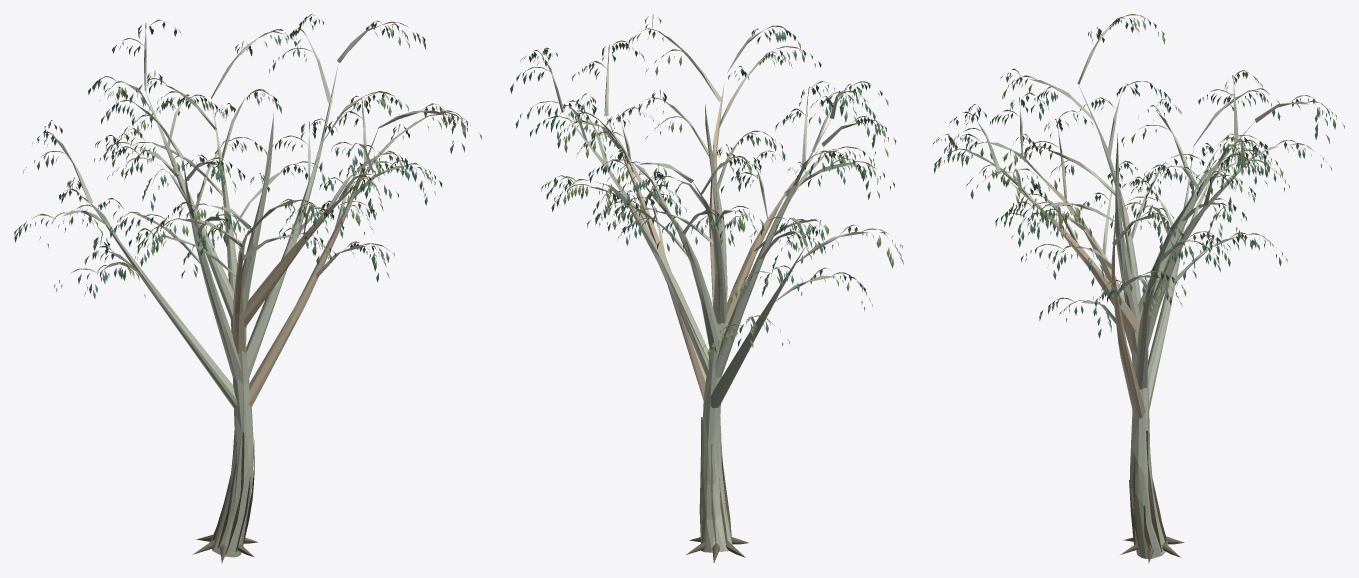
Rendered from eucalyptus-lod8000.glb.
3 renders of one model, left to right at view 1: azimuth 30°, elevation 25°; view 2: azimuth 150°, elevation 25°; view 3: azimuth 270°, elevation 25°, orthographic. The views are drawn at different scales.
Parts seen in each view (by area): view 1: eucalyptus-lod8000; view 2: eucalyptus-lod8000; view 3: eucalyptus-lod8000.
Boxes of the visible parts, x1,y1,x2,y2 form: eucalyptus-lod8000: [14, 14, 481, 563]; eucalyptus-lod8000: [510, 14, 903, 562]; eucalyptus-lod8000: [932, 14, 1344, 563].
Bounding box in the file's own units: 12.24 × 14.43 × 11.12.
